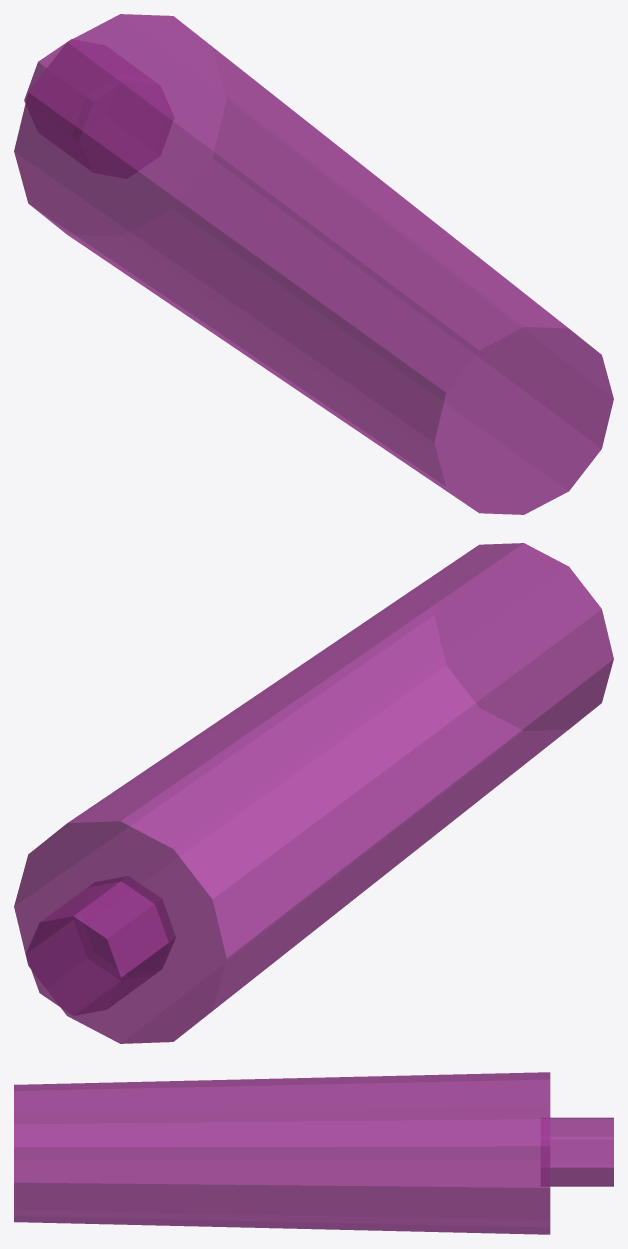
File: SM_Wep_Cannon_03_Cannon_Collision.fbx
3 views of the same model, one above another, from view 1: azimuth 30°, elevation 25°; view 2: azimuth 150°, elevation 25°; view 3: azimuth 270°, elevation 25° (orthographic). The views are drawn at different scales.
Parts seen in each view (by area): view 1: SM_Wep_Cannon_03_Cannon_Collision; view 2: SM_Wep_Cannon_03_Cannon_Collision; view 3: SM_Wep_Cannon_03_Cannon_Collision.
Boxes of the visible parts, x1,y1,x2,y2 form: SM_Wep_Cannon_03_Cannon_Collision: (14, 14, 613, 514); SM_Wep_Cannon_03_Cannon_Collision: (14, 543, 613, 1043); SM_Wep_Cannon_03_Cannon_Collision: (14, 1072, 613, 1234).
Size of the model in its own units: 76.48 by 76.48 by 281.
